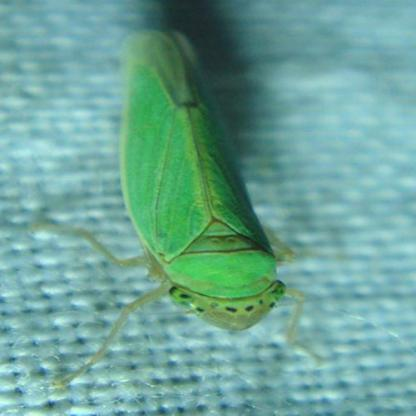green-leafhopper: (93, 34, 310, 342)
